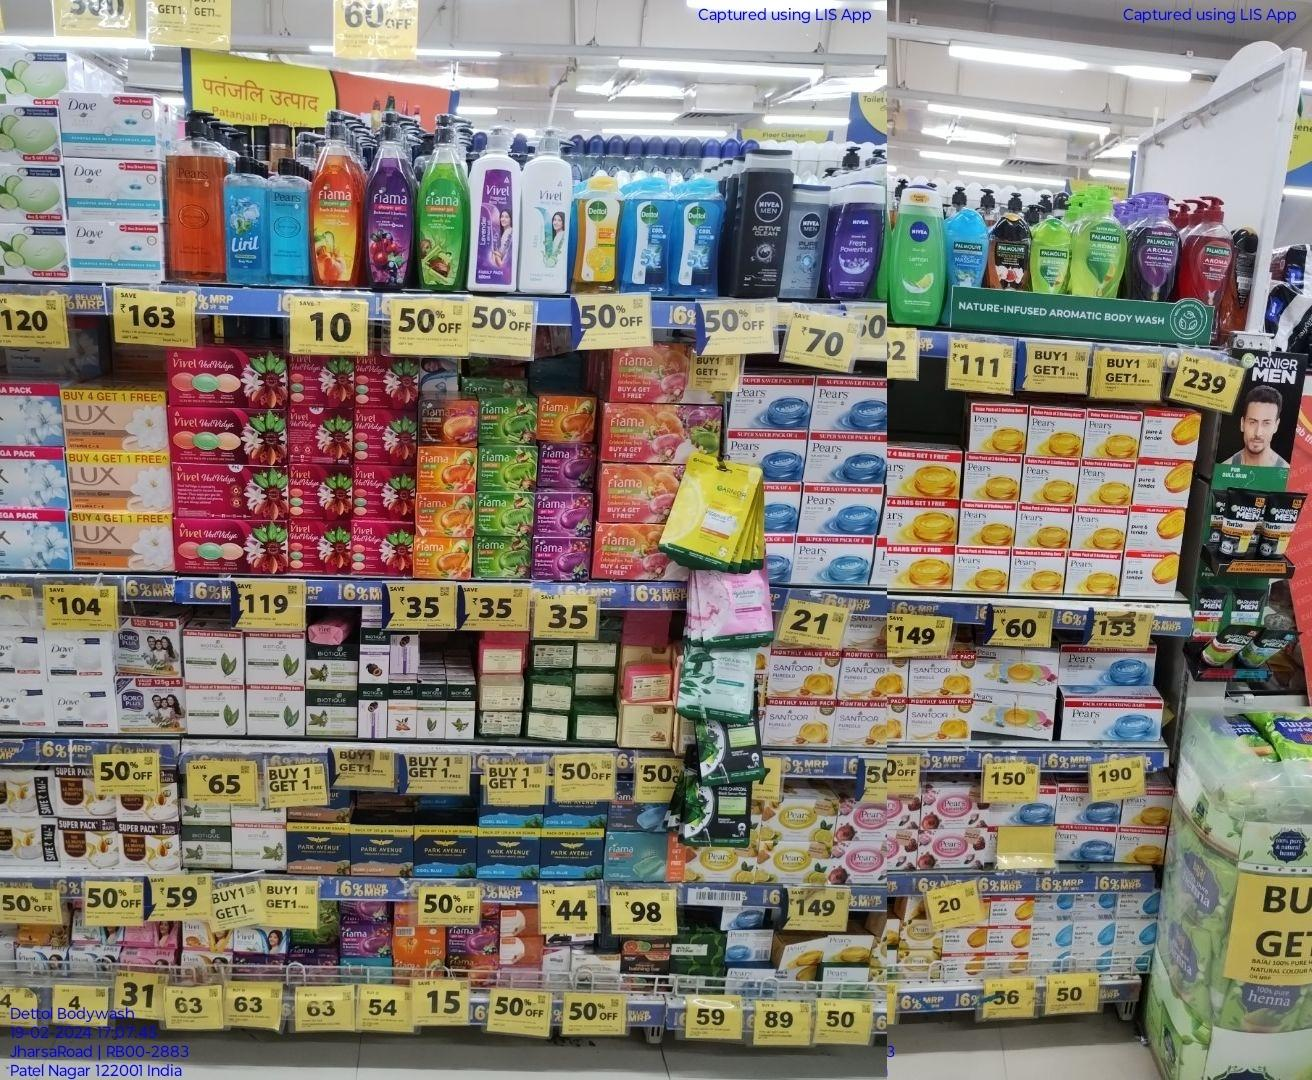Dettol_Bodywash_Cool: (624, 175, 677, 292), (677, 177, 727, 294)
Dettol_Bodywash_Refresh: (571, 174, 622, 294)
Liril_Cooling_Mint_Body_Wash_250ML: (222, 156, 268, 284)
Nivea_Shower_Gel_Lemon_and_Oil_250ML: (890, 184, 946, 326)
Pears_Naturale_Aloe_Vera_Body_Wash_250ML: (267, 156, 309, 284)
